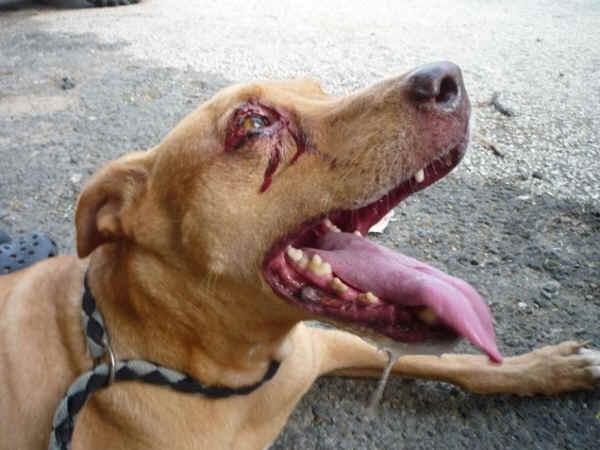bleeding: (218, 94, 316, 214)
